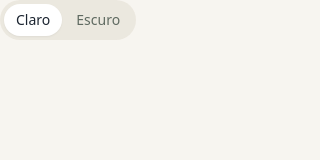
Test: Segmentado › grupo com nome; só a opção escolhida fica pressionada
Click the button "Escuro" at (98, 20), box [64, 4, 132, 36]
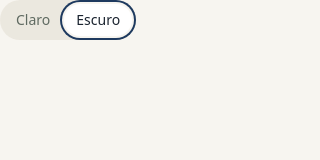
Result: the button "Escuro" is pressed at [64, 4, 132, 36]
Result: the button "Claro" is not pressed at [4, 4, 62, 36]
